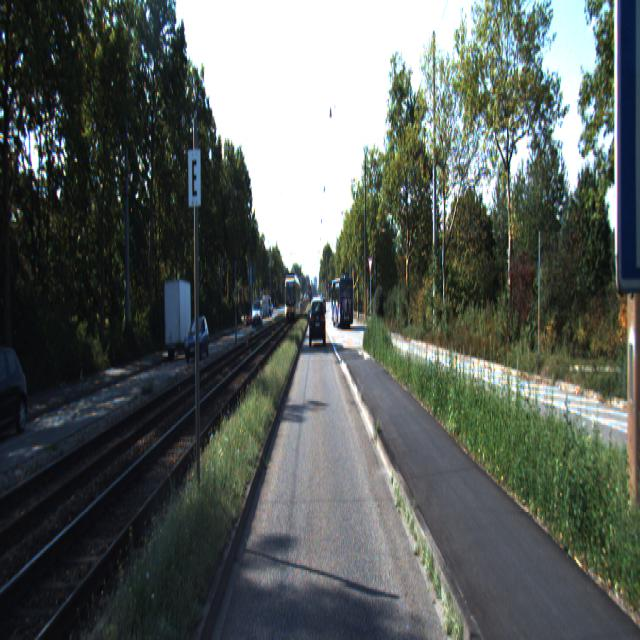Car: (163, 280, 192, 362), (183, 315, 210, 363), (331, 276, 353, 330), (310, 301, 324, 349)
